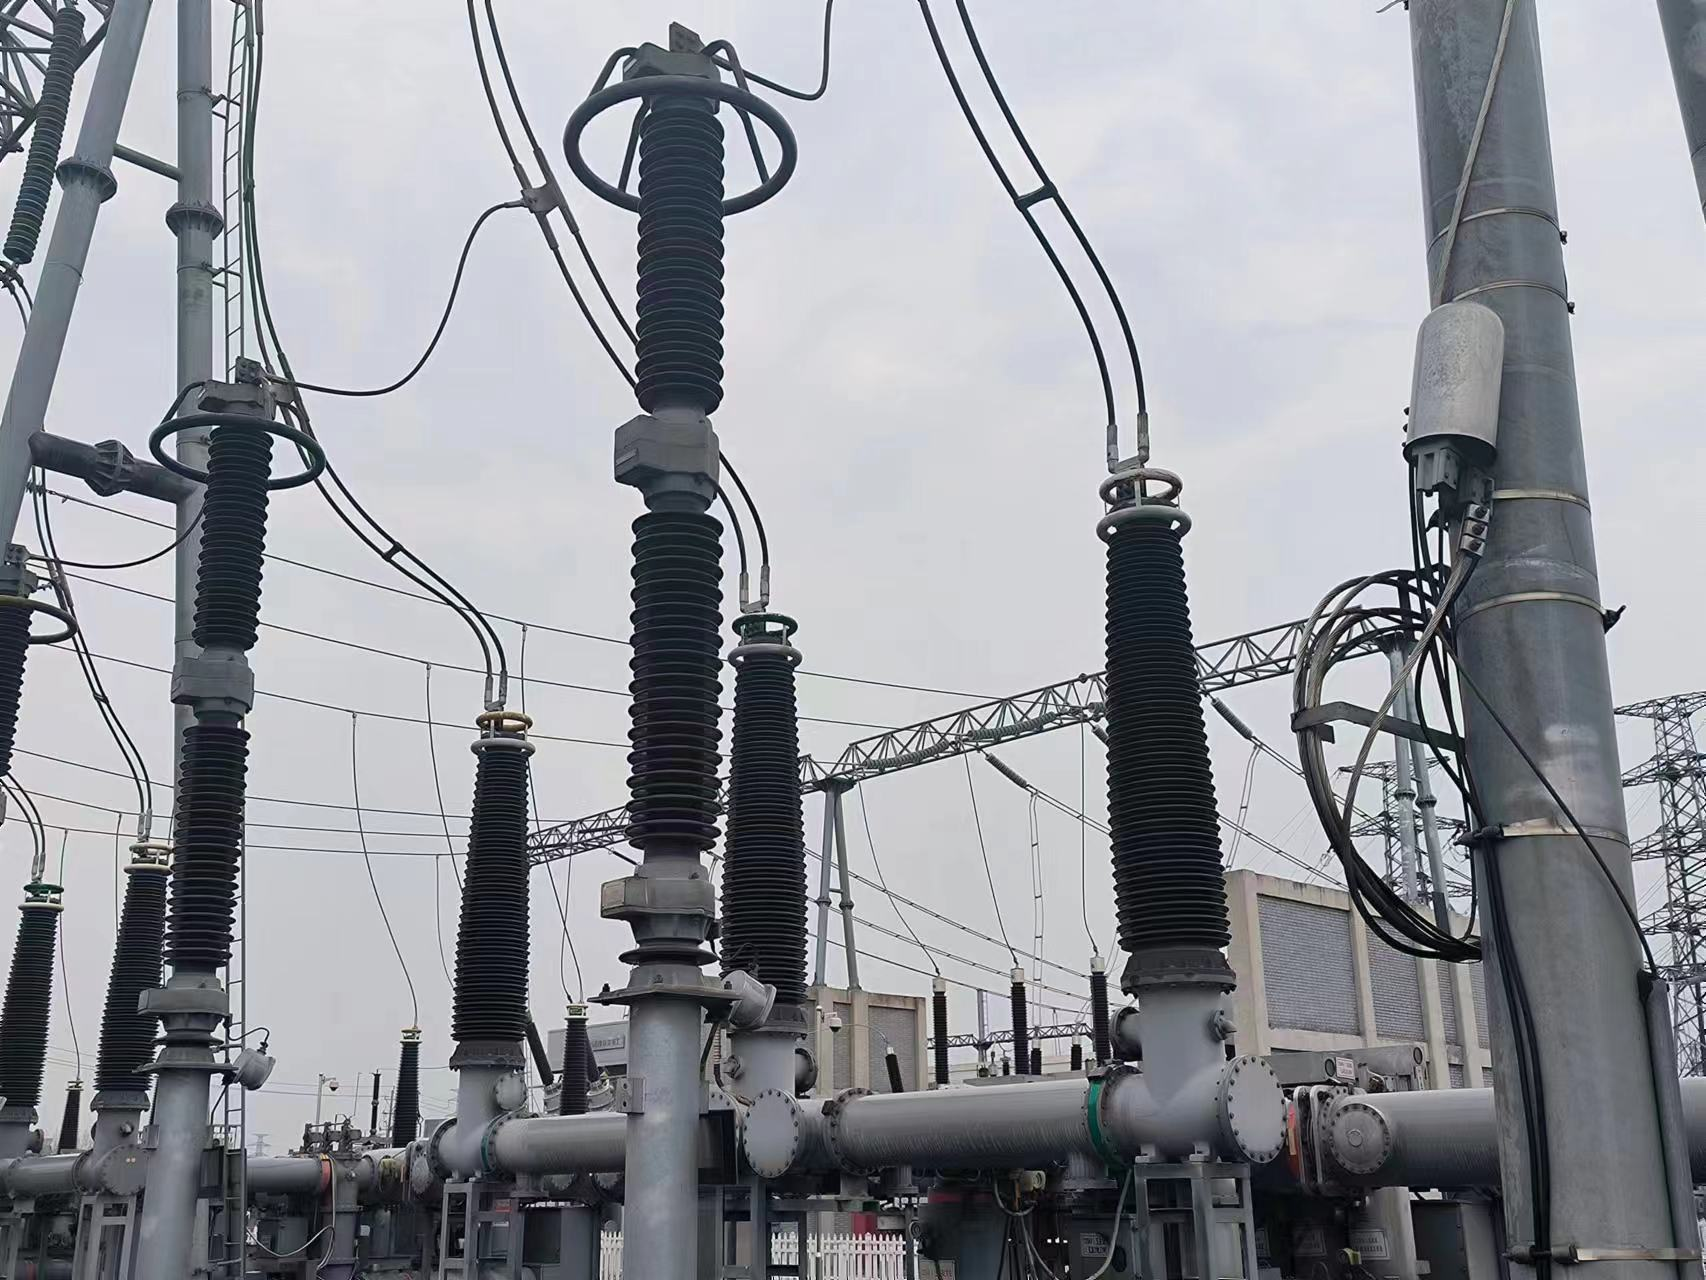Arrester: (565, 22, 799, 882), (151, 364, 329, 975)
Voltage transformer: (1092, 467, 1244, 977), (723, 606, 819, 1002), (444, 702, 540, 1066)
